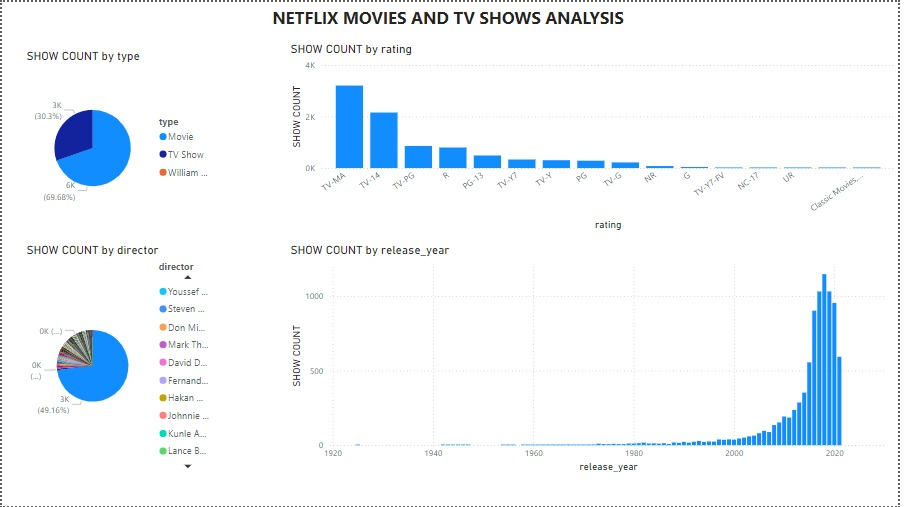

Layout of this report page (visuals, bound fields, positions):
{"tool":"powerbi","page":{"name":"Page 1","canvas":[1280,720],"ordinal":0},"visuals":[{"type":"pieChart","fields":{"Y":["netflix1.SHOW COUNT"],"Category":["netflix1.type"]},"box":[30.3,67.8,279.9,264],"z":0},{"type":"clusteredColumnChart","fields":{"Category":["netflix1.rating"],"Y":["netflix1.SHOW COUNT"]},"box":[406.9,57.7,872.9,274.1],"z":1},{"type":"clusteredColumnChart","fields":{"Y":["netflix1.SHOW COUNT"],"Category":["netflix1.release_year"]},"box":[406.9,344.8,872.9,331.8],"z":2},{"type":"textbox","box":[344.8,0,585.8,57.7],"z":3},{"type":"pieChart","fields":{"Y":["netflix1.SHOW COUNT"],"Category":["netflix1.director"]},"box":[30,345,280,332],"z":4}]}

Visuals, with their boxes in screenshot pixels (x1, y1, x2, y2), scaled from the page's 1280x720 canvas onto the 904x507 screenshot:
pieChart - netflix1.SHOW COUNT x netflix1.type: crop(21, 48, 219, 234)
clusteredColumnChart - netflix1.rating x netflix1.SHOW COUNT: crop(287, 41, 903, 234)
clusteredColumnChart - netflix1.SHOW COUNT x netflix1.release_year: crop(287, 243, 903, 476)
textbox: crop(244, 0, 657, 41)
pieChart - netflix1.SHOW COUNT x netflix1.director: crop(21, 243, 219, 477)
